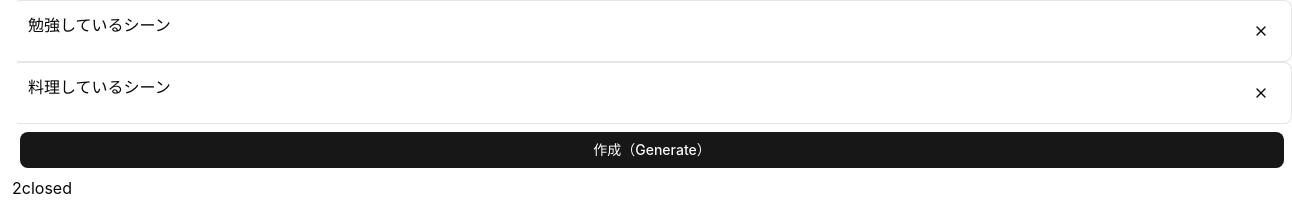
Test: SceneQueuePanel - 削除操作 › 1件削除後も残りのシーンが表示される
Click the button named "勉強しているシーンを削除". click: (1261, 31)
box: [1243, 13, 1279, 49]
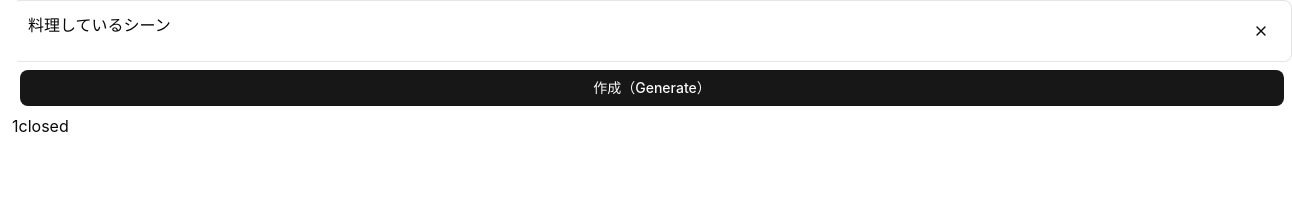
Expected: the text "料理しているシーン" is shown, [28, 15, 171, 35]
Expected: the button "勉強しているシーン" is gone
